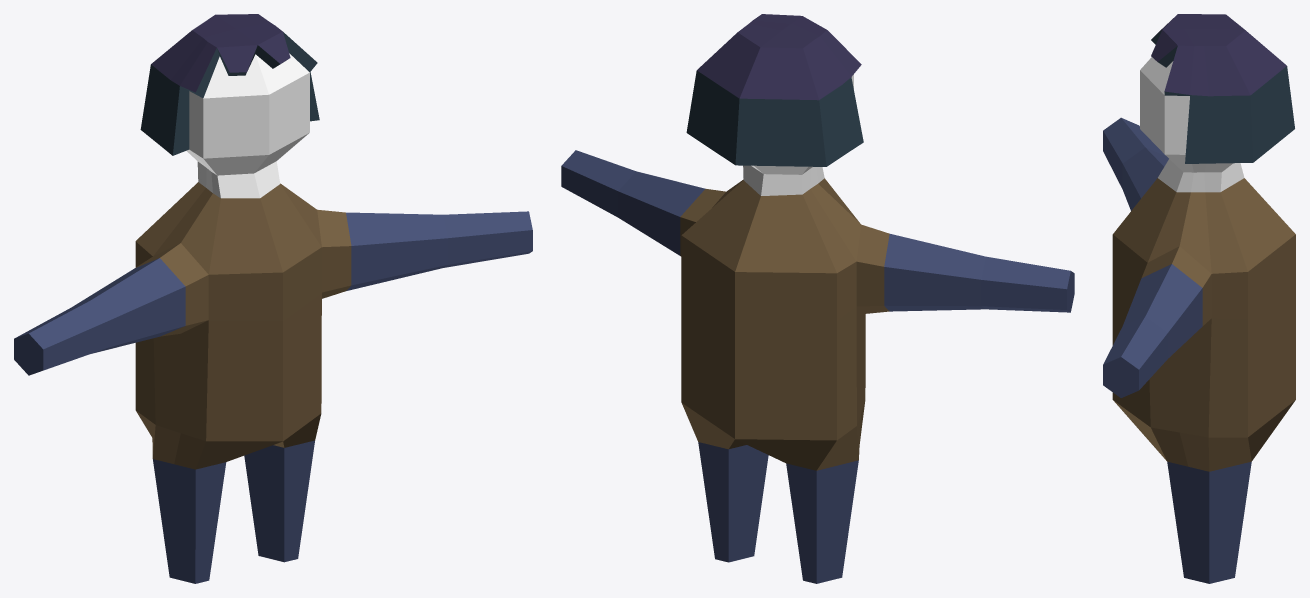
Rendered from NativeVillager2.fbx.
The picture shows the model from 3 angles, left to right: view 1: azimuth 30°, elevation 25°; view 2: azimuth 150°, elevation 25°; view 3: azimuth 270°, elevation 25°; orthographic projection. The views are drawn at different scales.
Visible parts, largest first — view 1: Villager.002; view 2: Villager.002; view 3: Villager.002.
Boxes of the visible parts, <box> form: Villager.002: <box>14,14,532,583</box>; Villager.002: <box>561,14,1074,583</box>; Villager.002: <box>1103,14,1295,583</box>.
Size of the model in its own units: 30 by 30 by 10.
